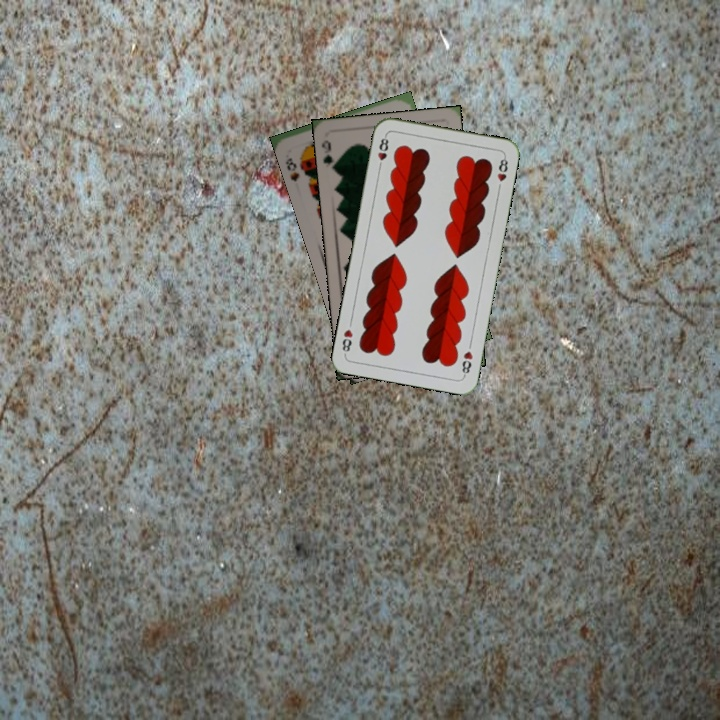G9: (318, 136, 339, 174)
H8: (374, 131, 391, 172), (458, 347, 475, 379)
S8: (281, 154, 302, 184)
